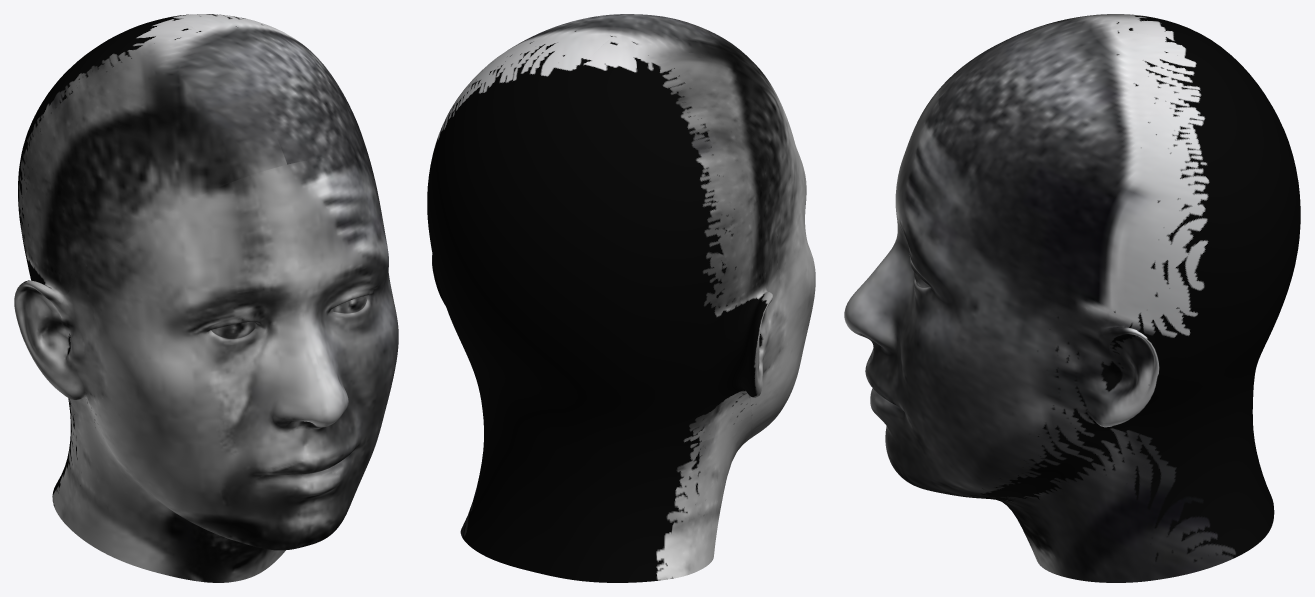
File: rollins.glb
The picture shows the model from 3 angles, left to right: view 1: azimuth 30°, elevation 25°; view 2: azimuth 150°, elevation 25°; view 3: azimuth 270°, elevation 25°; orthographic projection.
Parts seen in each view (by area): view 1: FBHead.003; view 2: FBHead.003; view 3: FBHead.003.
Boxes of the visible parts, left/top/right/bottom form: FBHead.003: left=14, top=14, right=398, bottom=582; FBHead.003: left=427, top=14, right=815, bottom=582; FBHead.003: left=844, top=14, right=1300, bottom=582.
Size of the model in its own units: 1.58 by 2.4 by 1.9.
1 material, 1 textured.
